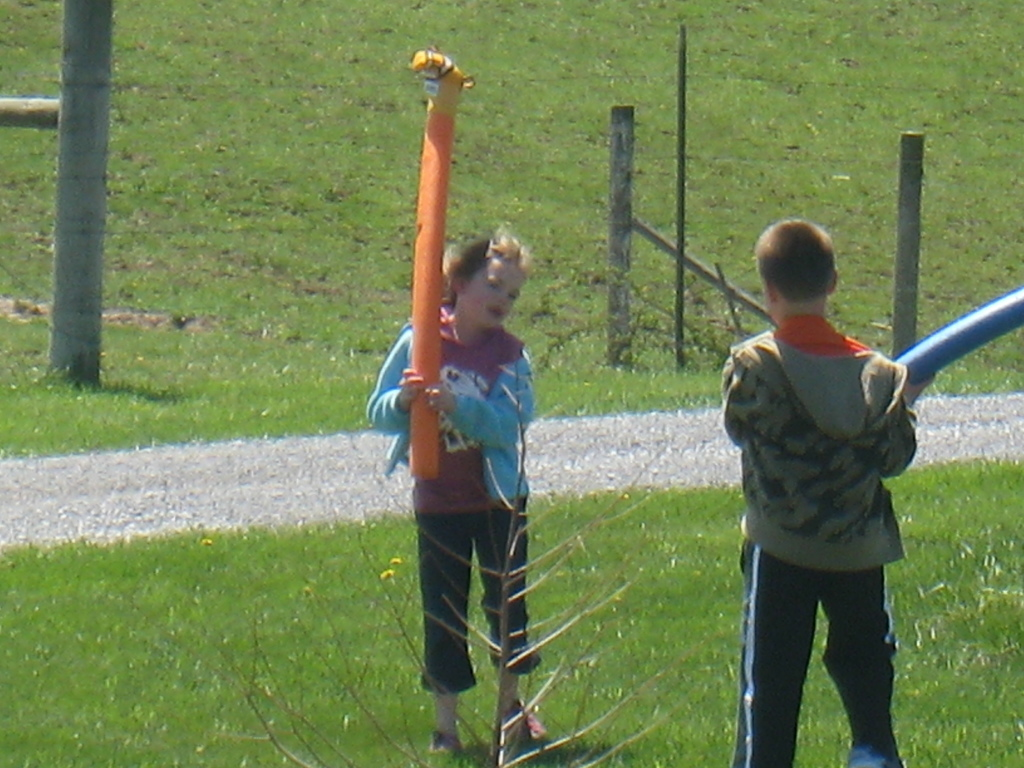Person: (717, 214, 933, 768), (367, 224, 547, 755)
